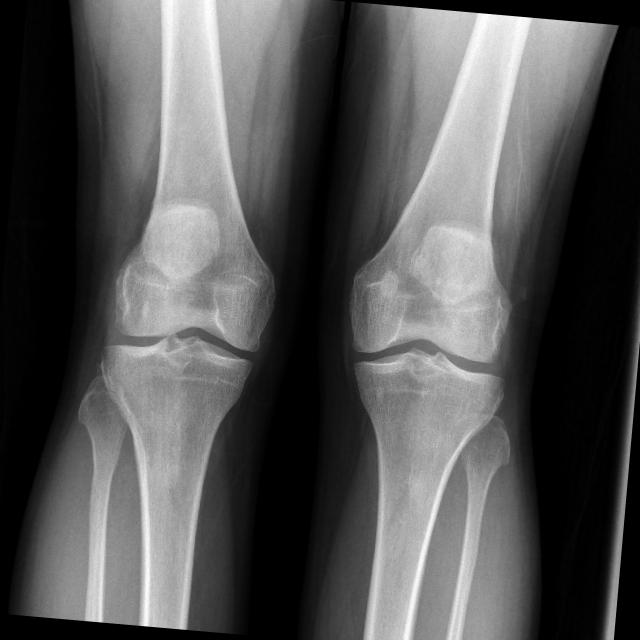Knee: (96, 268, 280, 437), (338, 278, 518, 444)
